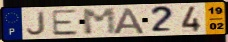2: (149, 5, 177, 35)
4: (180, 5, 203, 33)
A: (112, 7, 147, 35)
E: (50, 9, 79, 37)
J: (25, 10, 47, 36)
M: (81, 7, 119, 36)
